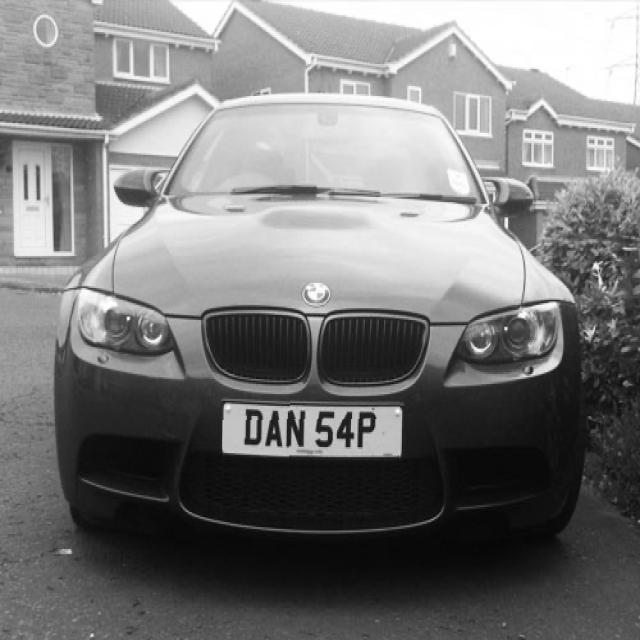licence: (222, 397, 400, 460)
